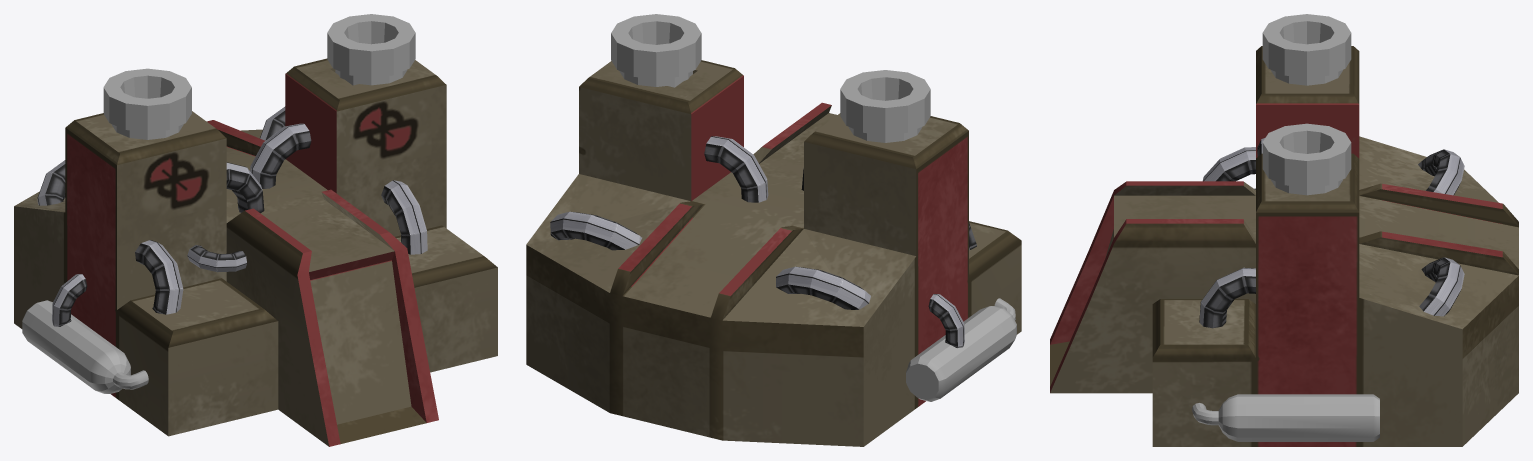
The model's file is AssemblyBay.fbx.
3 views of the same model, side by side, from view 1: azimuth 30°, elevation 25°; view 2: azimuth 150°, elevation 25°; view 3: azimuth 270°, elevation 25° (orthographic). The views are drawn at different scales.
Parts seen in each view (by area): view 1: polySurface420, polySurface424, polySurface421, polySurface422, polySurface426, polySurface428, polySurface427, polySurface429, polySurface425, polySurface430, polySurface432, polySurface431; view 2: polySurface420, polySurface421, polySurface422, polySurface424, polySurface432, polySurface431, polySurface428, polySurface430; view 3: polySurface420, polySurface423, polySurface421, polySurface422, polySurface427, polySurface431, polySurface432, polySurface426.
Part boxes in pixels (x1,y1,x2,y2): polySurface420: [14, 58, 497, 446]; polySurface424: [22, 300, 148, 393]; polySurface421: [327, 14, 415, 85]; polySurface422: [103, 68, 191, 139]; polySurface426: [135, 240, 183, 314]; polySurface428: [250, 123, 311, 188]; polySurface427: [381, 180, 427, 254]; polySurface429: [226, 162, 264, 213]; polySurface425: [187, 245, 247, 272]; polySurface430: [52, 274, 87, 326]; polySurface432: [37, 160, 65, 205]; polySurface431: [260, 106, 285, 140]; polySurface420: [526, 60, 1021, 446]; polySurface421: [611, 14, 701, 87]; polySurface422: [840, 70, 930, 142]; polySurface424: [906, 298, 1016, 401]; polySurface432: [776, 266, 870, 309]; polySurface431: [550, 211, 641, 250]; polySurface428: [704, 136, 768, 202]; polySurface430: [928, 294, 964, 347]; polySurface420: [1050, 46, 1518, 446]; polySurface423: [1192, 394, 1379, 441]; polySurface421: [1262, 123, 1351, 195]; polySurface422: [1262, 14, 1351, 85]; polySurface427: [1199, 267, 1255, 328]; polySurface431: [1419, 257, 1464, 316]; polySurface432: [1418, 149, 1464, 195]; polySurface426: [1202, 147, 1255, 181].
Size of the model in its own units: 17.32 by 11.43 by 17.33.
